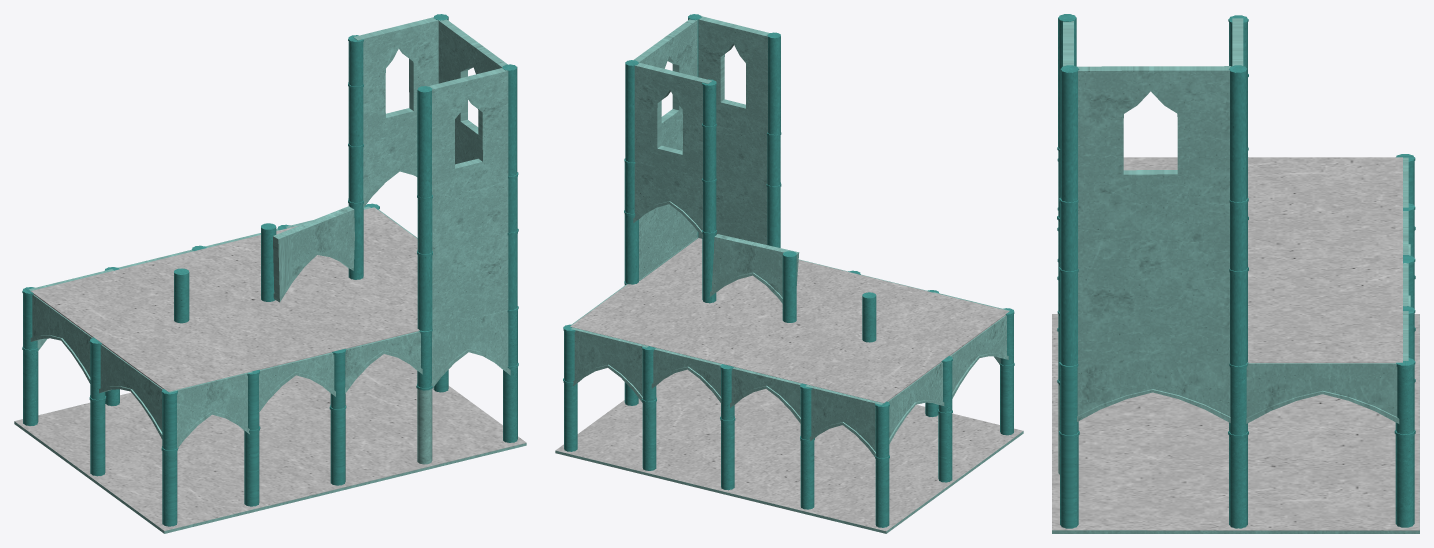
Rendered from coral_palace.glb.
The picture shows the model from 3 angles, left to right: view 1: azimuth 30°, elevation 25°; view 2: azimuth 150°, elevation 25°; view 3: azimuth 270°, elevation 25°; orthographic projection. The views are drawn at different scales.
Parts seen in each view (by area): view 1: pasted__pCube2, pCube2, pasted__polySurface4, pasted__pasted__pasted__pasted__pasted__pasted__pasted__past (×10), polySurface4, pasted__pasted__pCube1, pasted__group44_pasted__pasted__group21_pasted__pasted__past, pasted__pasted__pasted__pasted__pasted__pasted__pasted__pCyl (×2), pasted__pasted__polySurface4, pasted__pasted__pasted__pasted__pasted__pCube1, pasted__pasted__pCube1_lambert1_0.001, polySurface3 (+5 smaller); view 2: pCube2, pasted__pCube2, pasted__pasted__pasted__pasted__pasted__pasted__pasted__past (×10), pasted__polySurface4, polySurface4, pasted__pasted__polySurface4, group20_pasted__pCube1, pasted__pasted__pasted__pasted__pasted__pasted__pCylinder1_l (×2), pasted__pasted__pCube1, polySurface3, pCube1, pasted__pCube1 (+6 smaller); view 3: pasted__pasted__polySurface4, pasted__pCube2, pCube2, pasted__pasted__pasted__pasted__pasted__pasted__pasted__past (×8), pasted__pasted__pasted__pasted__pCube1, pasted__pasted__pasted__pCube1_lambert1_0.001, pasted__pasted__pasted__pasted__pasted__pCylinder1_lambert1_, pasted__pasted__pasted__pasted__pasted__pasted__pCylinder1_l, polySurface4, group20_pasted__pCube1, pasted__polySurface4.
Boxes of the visible parts, x1=… form: pasted__pCube2: x1=14, y1=354, x2=526, y2=533; pCube2: x1=31, y1=207, x2=419, y2=391; pasted__polySurface4: x1=428, y1=68, x2=508, y2=328; pasted__pasted__pasted__pasted__pasted__pasted__pasted__past (×10): x1=22, y1=35, x2=518, y2=526; polySurface4: x1=353, y1=17, x2=438, y2=144; pasted__pasted__pCube1: x1=273, y1=206, x2=354, y2=302; pasted__group44_pasted__pasted__group21_pasted__pasted__past: x1=259, y1=331, x2=422, y2=412; pasted__pasted__pasted__pasted__pasted__pasted__pasted__pCyl (×2): x1=329, y1=329, x2=432, y2=485; pasted__pasted__polySurface4: x1=438, y1=19, x2=507, y2=164; pasted__pasted__pasted__pasted__pasted__pCube1: x1=431, y1=310, x2=510, y2=387; pasted__pasted__pCube1_lambert1_0.001: x1=169, y1=371, x2=252, y2=448; polySurface3: x1=353, y1=37, x2=417, y2=207; pCube2: x1=570, y1=238, x2=1009, y2=403; pasted__pCube2: x1=555, y1=369, x2=1023, y2=533; pasted__pasted__pasted__pasted__pasted__pasted__pasted__past (×10): x1=624, y1=32, x2=1014, y2=527; pasted__polySurface4: x1=698, y1=16, x2=769, y2=244; polySurface4: x1=634, y1=62, x2=712, y2=178; pasted__pasted__polySurface4: x1=633, y1=19, x2=697, y2=280; group20_pasted__pCube1: x1=651, y1=348, x2=801, y2=423; pasted__pasted__pasted__pasted__pasted__pasted__pCylinder1_l (×2): x1=642, y1=346, x2=735, y2=490; pasted__pasted__pCube1: x1=709, y1=234, x2=799, y2=303; polySurface3: x1=633, y1=81, x2=711, y2=237; pCube1: x1=571, y1=327, x2=648, y2=402; pasted__pCube1: x1=805, y1=385, x2=883, y2=457; pasted__pasted__polySurface4: x1=1078, y1=66, x2=1231, y2=363; pasted__pCube2: x1=1052, y1=314, x2=1419, y2=533; pCube2: x1=1123, y1=157, x2=1402, y2=363; pasted__pasted__pasted__pasted__pasted__pasted__pasted__past (×8): x1=1058, y1=14, x2=1248, y2=528; pasted__pasted__pasted__pasted__pCube1: x1=1246, y1=363, x2=1399, y2=423; pasted__pasted__pasted__pCube1_lambert1_0.001: x1=1077, y1=363, x2=1230, y2=422; pasted__pasted__pasted__pasted__pasted__pCylinder1_lambert1_: x1=1394, y1=358, x2=1415, y2=527; pasted__pasted__pasted__pasted__pasted__pasted__pCylinder1_l: x1=1059, y1=362, x2=1079, y2=528; polySurface4: x1=1232, y1=18, x2=1243, y2=66; group20_pasted__pCube1: x1=1403, y1=211, x2=1410, y2=306; pasted__polySurface4: x1=1063, y1=21, x2=1073, y2=66.
Size of the model in its own units: 30 by 29.68 by 21.55.
1 material, 1 textured.
